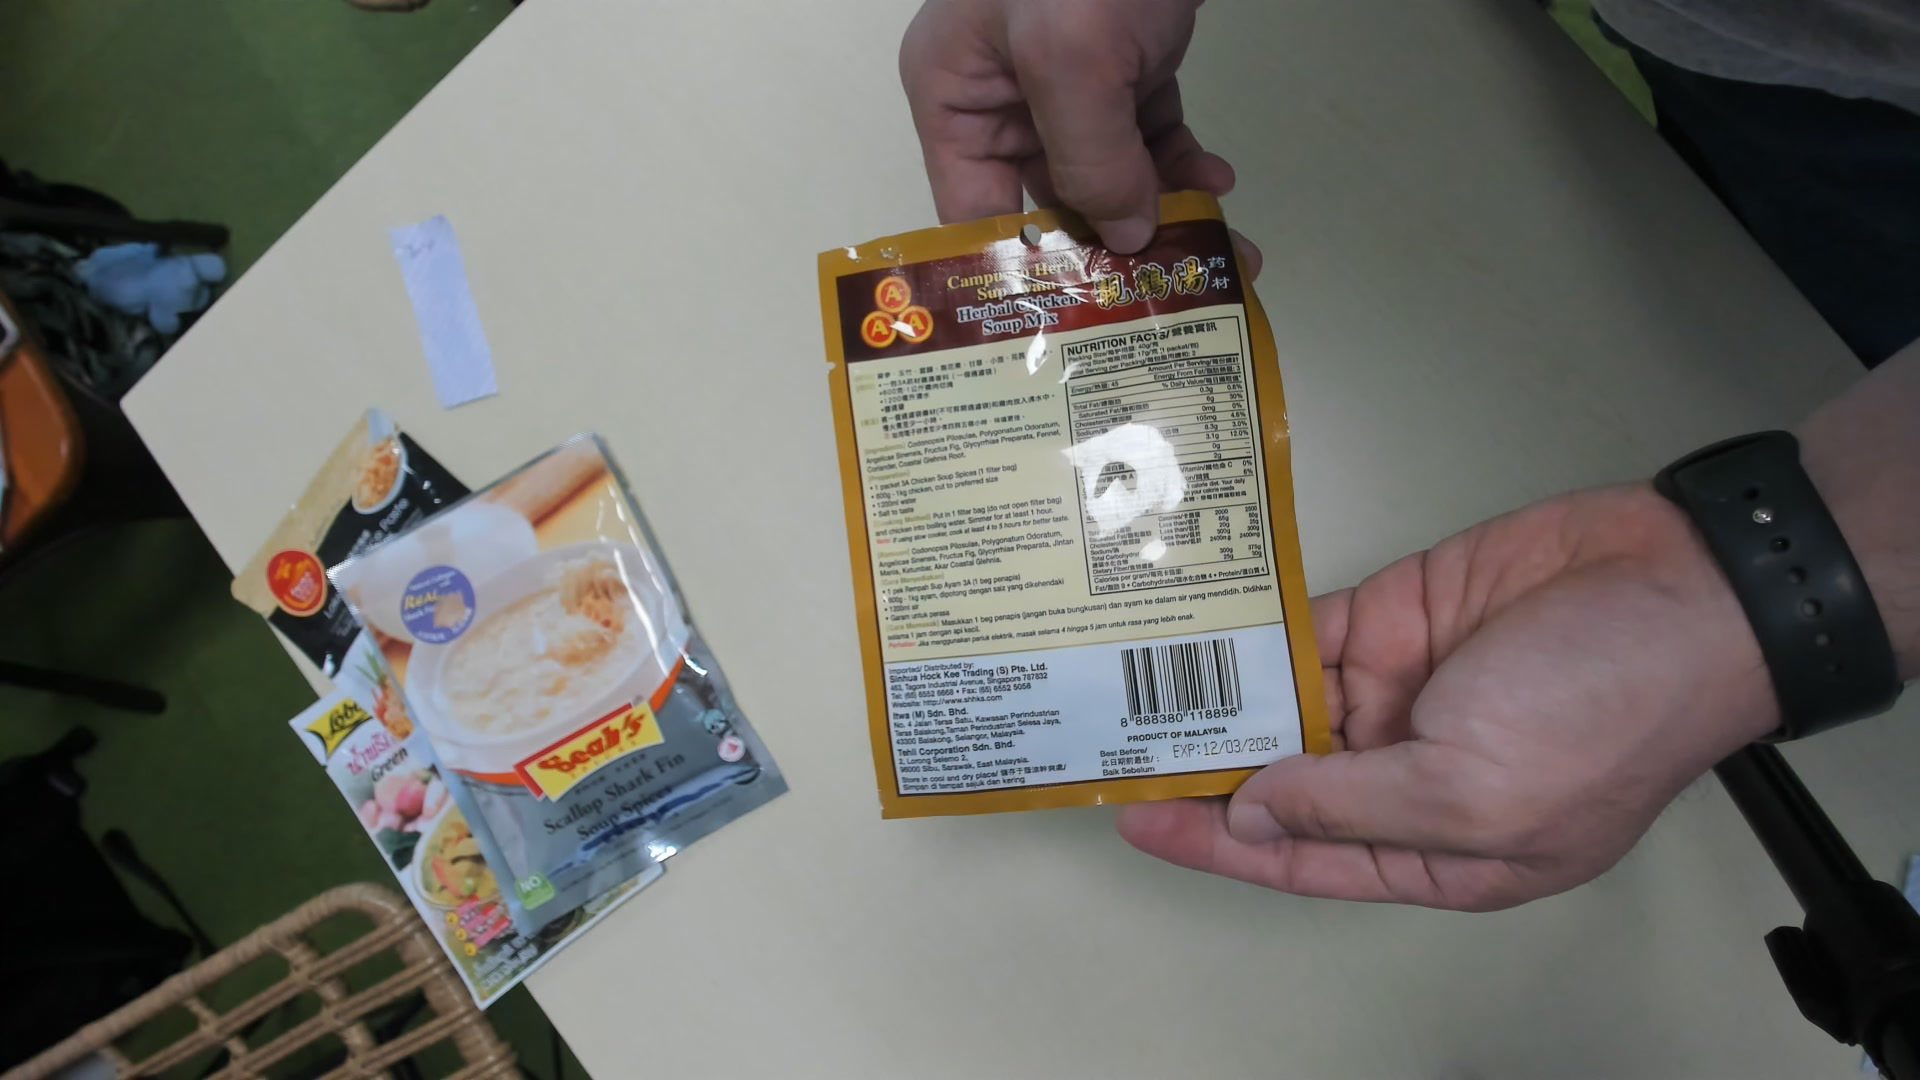OtherSauceDressing_0-99g_Halal_NonHealthy: (806, 196, 1337, 820)
